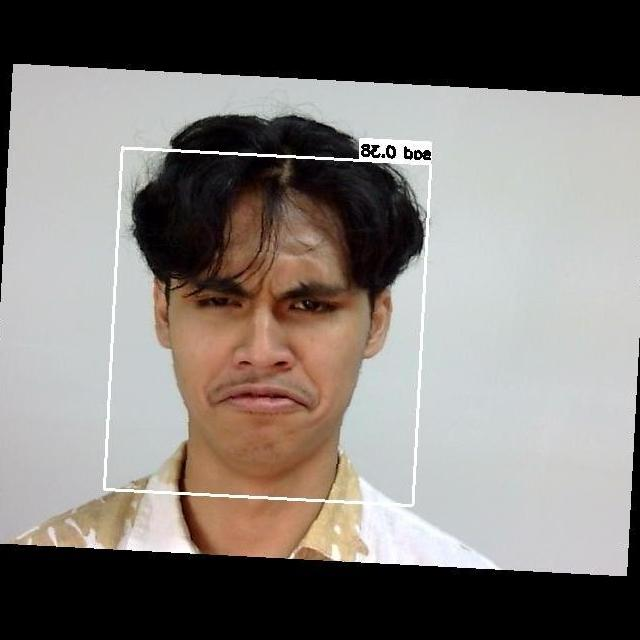Sad: (162, 241, 389, 459)
